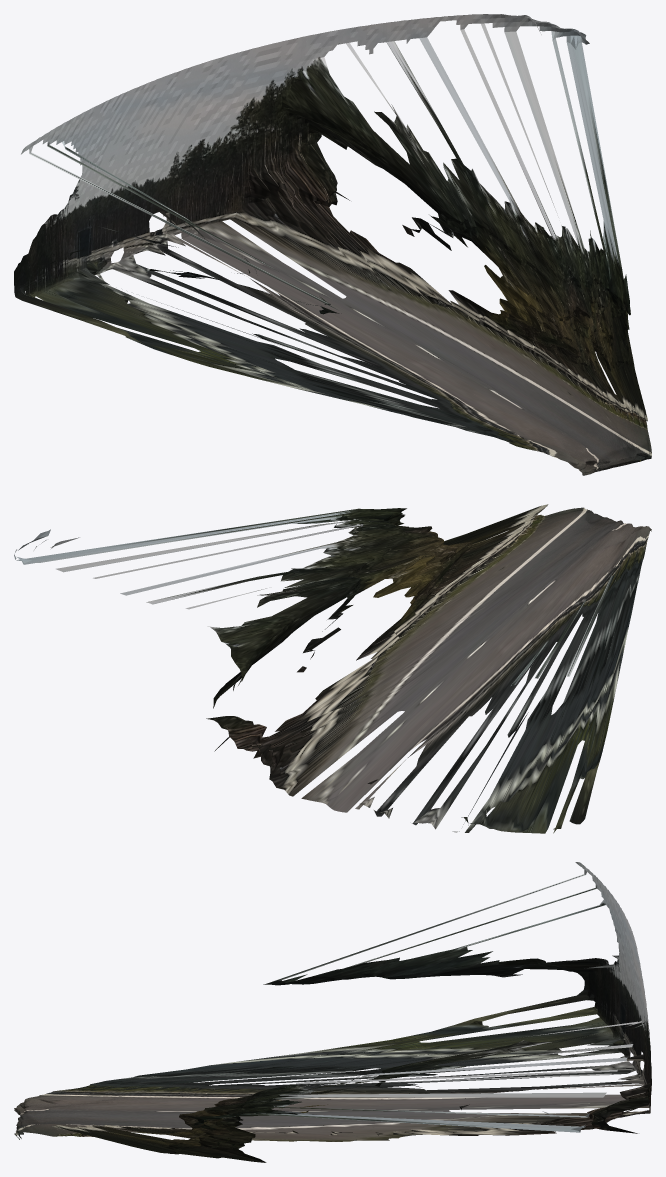
3 views of the same model, one above another, from view 1: azimuth 30°, elevation 25°; view 2: azimuth 150°, elevation 25°; view 3: azimuth 270°, elevation 25° (orthographic). The views are drawn at different scales.
Parts seen in each view (by area): view 1: defaultobject; view 2: defaultobject; view 3: defaultobject.
Boxes of the visible parts, x1,y1,x2,y2 form: defaultobject: [14, 14, 651, 475]; defaultobject: [14, 504, 651, 833]; defaultobject: [14, 862, 651, 1162].
Size of the model in its own units: 40.75 by 12.67 by 44.39.
1 material, 1 textured.
